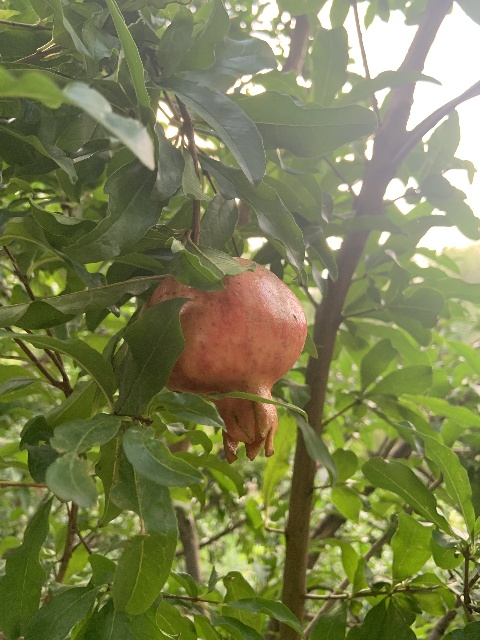ripe: (145, 260, 307, 463)
